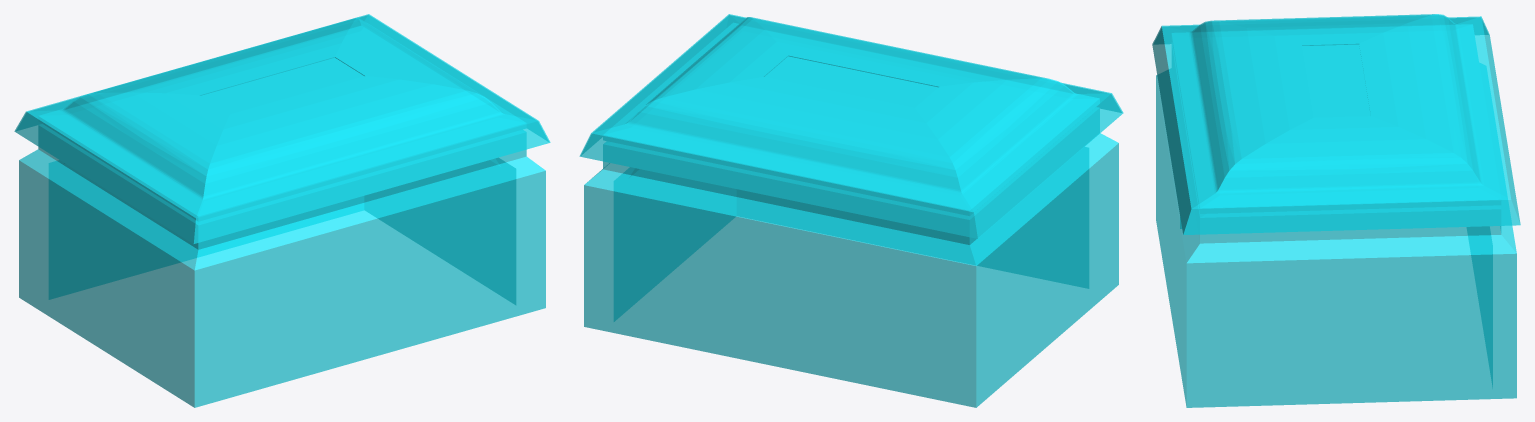
File: Roof_openings.glb
3 views of the same model, side by side, from view 1: azimuth 30°, elevation 25°; view 2: azimuth 150°, elevation 25°; view 3: azimuth 270°, elevation 25° (orthographic). The views are drawn at different scales.
Parts seen in each view (by area): view 1: world; view 2: world; view 3: world.
Part boxes in pixels (x1,y1,x2,y2): world: [14, 14, 550, 407]; world: [579, 14, 1123, 407]; world: [1152, 14, 1520, 407].
Size of the model in its own units: 1.66 by 0.8817 by 1.29.
